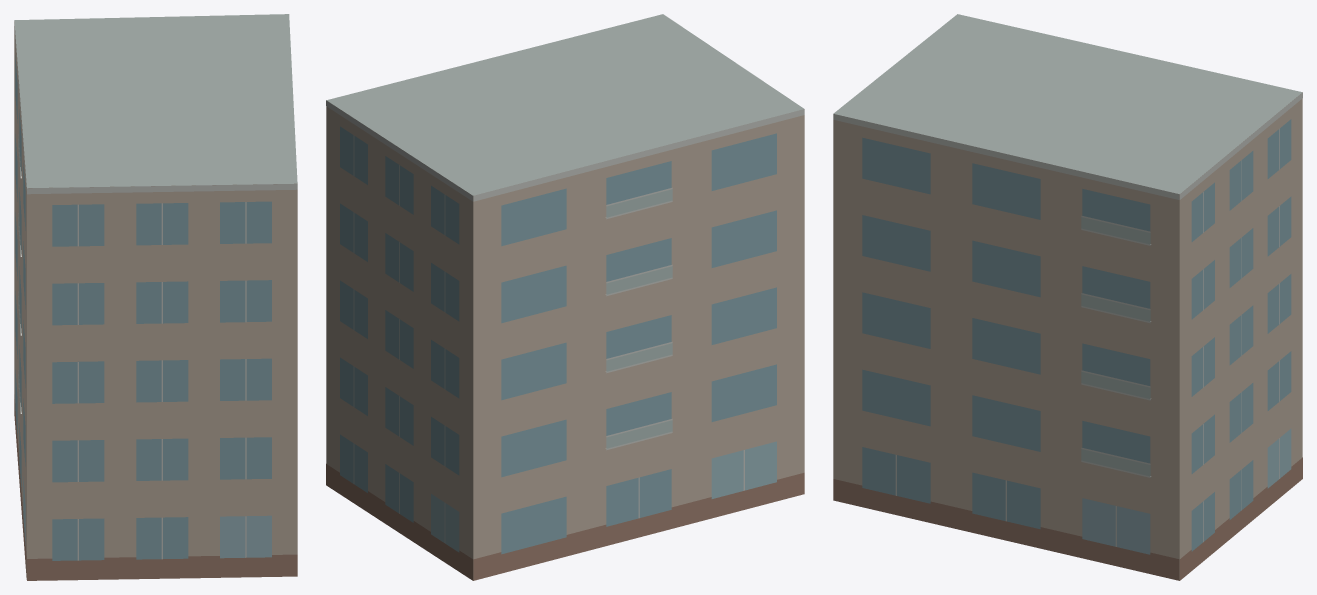
Rendered from survey-upis-32823935.glb.
3 views of the same model, side by side, from view 1: azimuth 30°, elevation 25°; view 2: azimuth 150°, elevation 25°; view 3: azimuth 270°, elevation 25° (orthographic).
Visible parts, largest first — view 1: survey-upis-32823935.tmp; view 2: survey-upis-32823935.tmp; view 3: survey-upis-32823935.tmp.
Part boxes in pixels (x1,y1,x2,y2): survey-upis-32823935.tmp: (14, 14, 297, 580); survey-upis-32823935.tmp: (326, 14, 804, 580); survey-upis-32823935.tmp: (833, 14, 1302, 580).
Bounding box in the file's own units: 15.8 × 15.8 × 17.4.
